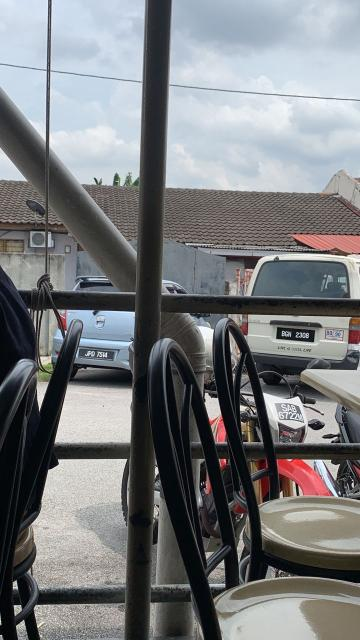License_Plate: (276, 324, 319, 347), (273, 401, 308, 428), (81, 347, 116, 364)
car: (236, 247, 360, 376), (57, 272, 185, 375)
